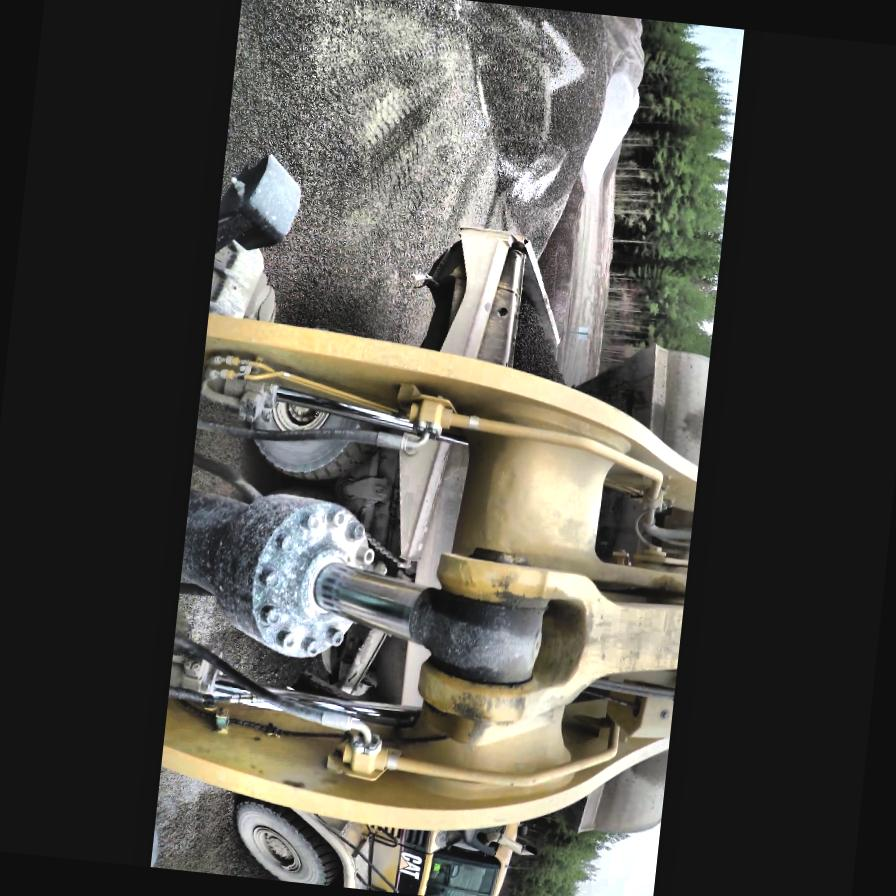anchor: (368, 536, 553, 754)
pile of gravel: (443, 0, 619, 274), (527, 173, 586, 344), (581, 70, 643, 198), (587, 13, 651, 94)
